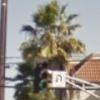traffic lights: (36, 58, 49, 92)
